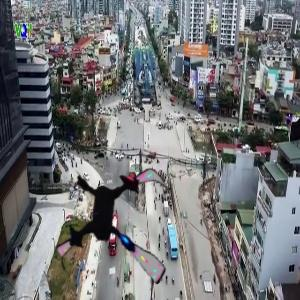drone: (47, 156, 189, 298)
